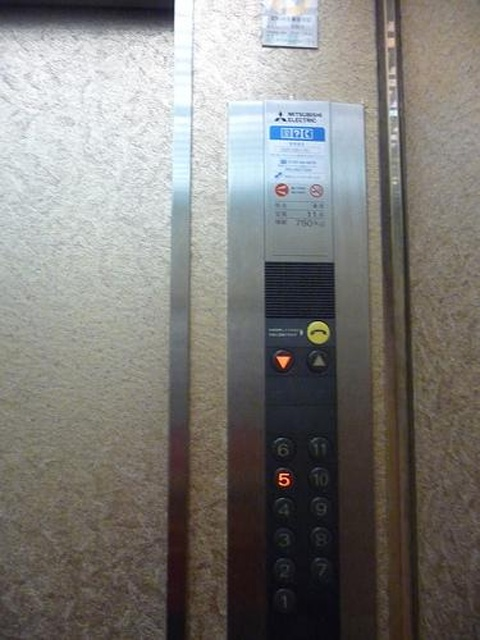1: (271, 587, 297, 614)
10: (307, 465, 333, 492)
11: (306, 435, 332, 462)
2: (271, 557, 297, 584)
3: (271, 526, 297, 553)
4: (271, 496, 297, 523)
5: (271, 466, 297, 493)
6: (270, 436, 296, 463)
7: (308, 556, 334, 583)
8: (308, 525, 334, 552)
9: (308, 495, 334, 522)
call: (305, 319, 331, 346)
down: (270, 347, 296, 374)
up: (305, 348, 331, 375)
